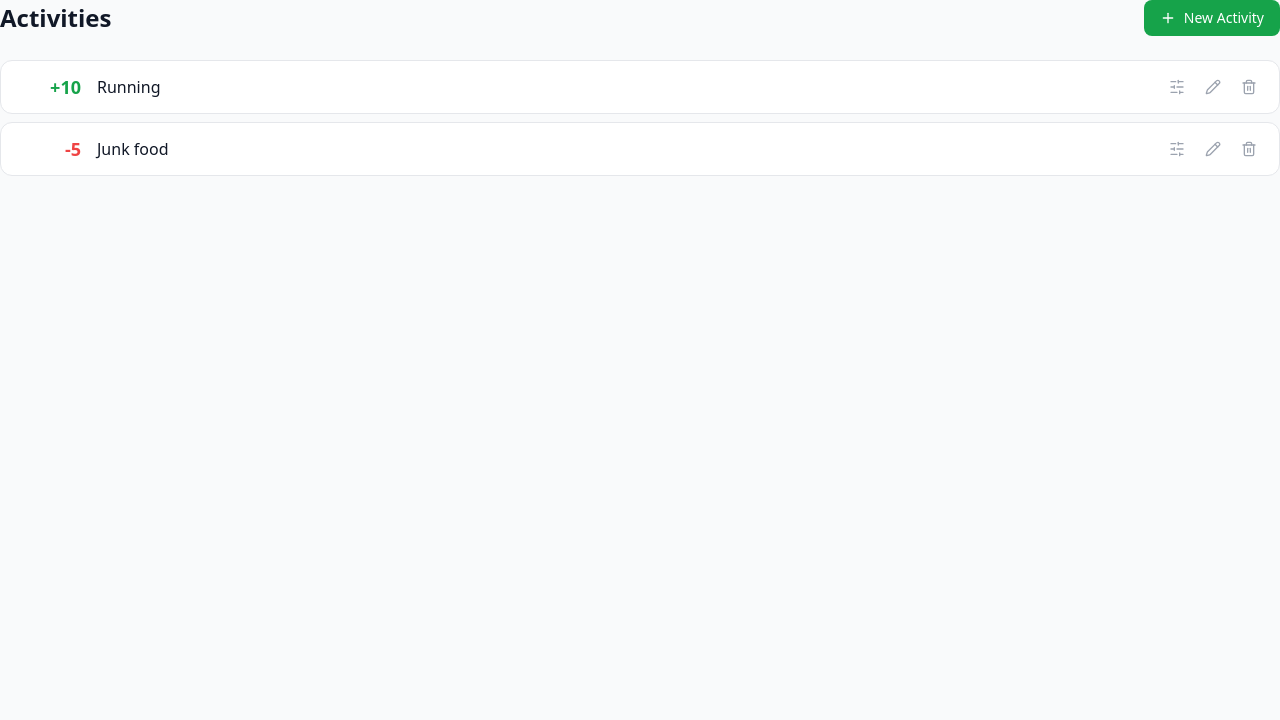
opens confirm dialog when delete button clicked
The width and height of the screenshot is (1280, 720).
Expected: the text "Running" is shown, [97,76,160,98]
Click the 4th button: (1249, 87) [1235,73,1263,101]
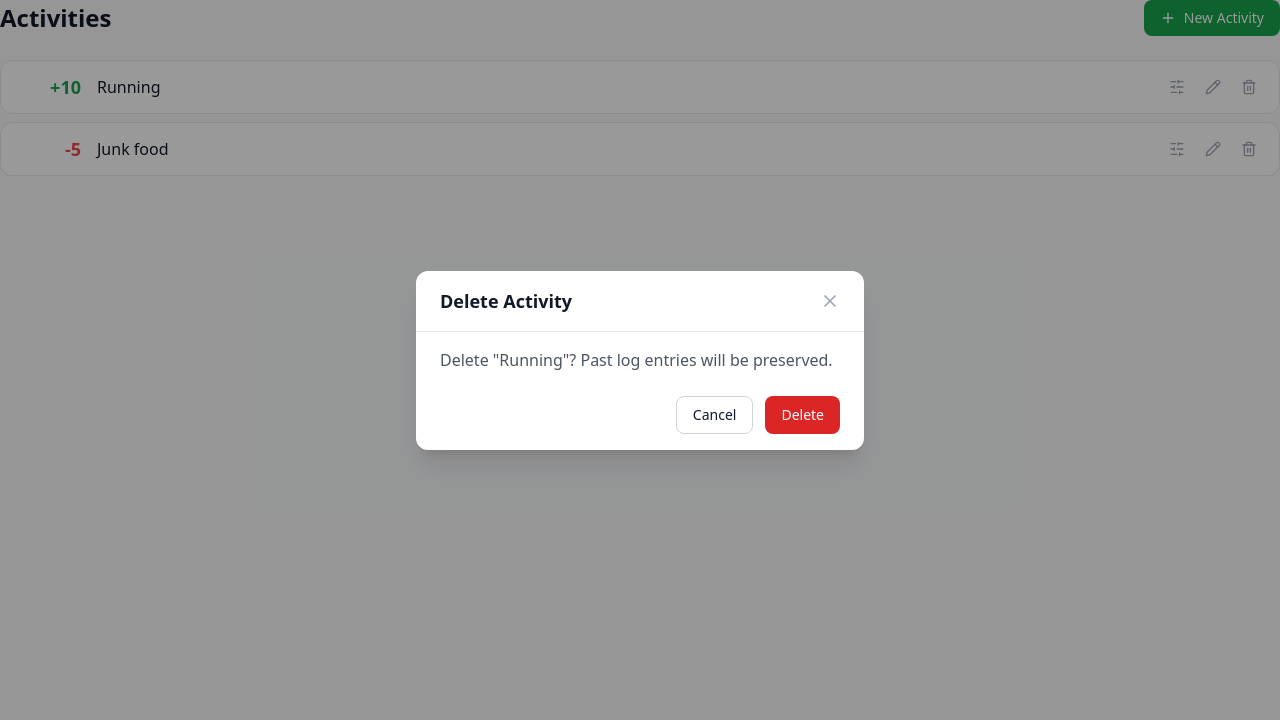
Now the text "Delete \"Running\"? Past log entries will be preserved." is shown, box [440,348,840,372]
